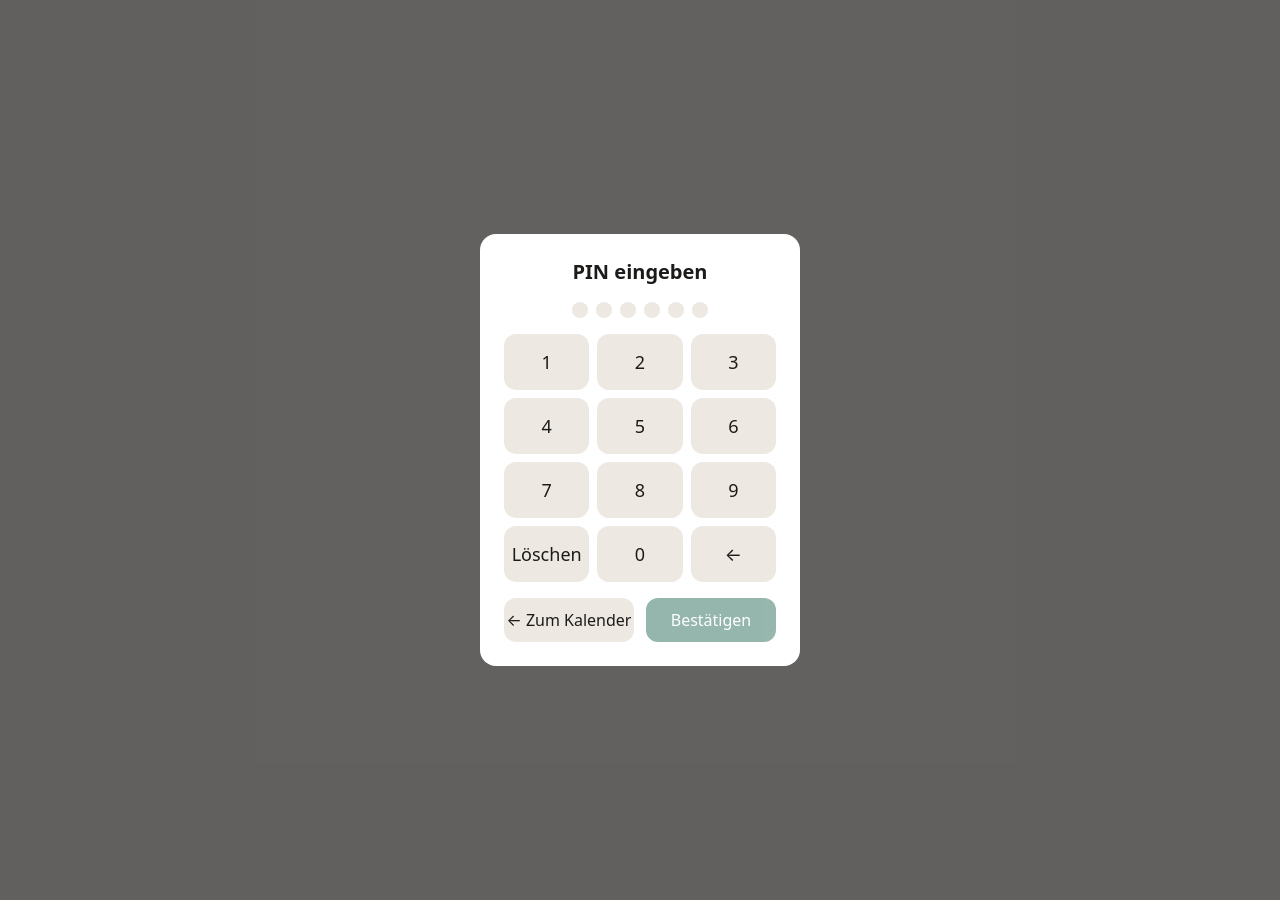
Test: PinGate › shows the server error when verification fails with an Error
What coordinates should you click on to do the following:
click the button "1"
I would click on:
 (547, 362)
Its box is [504, 334, 589, 390].
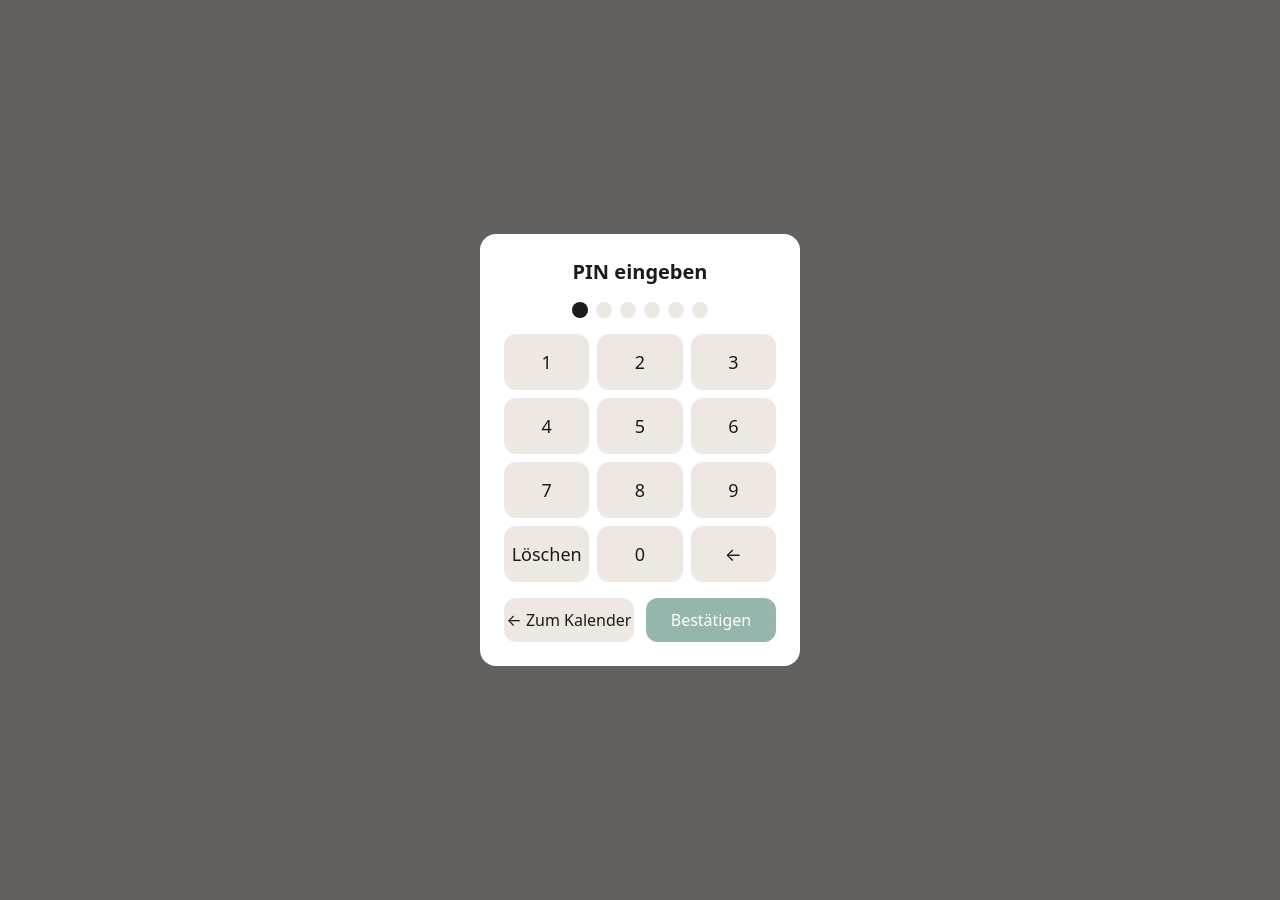
What coordinates should you click on to do the following:
click the button "2"
I would click on:
 (640, 362)
Its box is [597, 334, 683, 390].
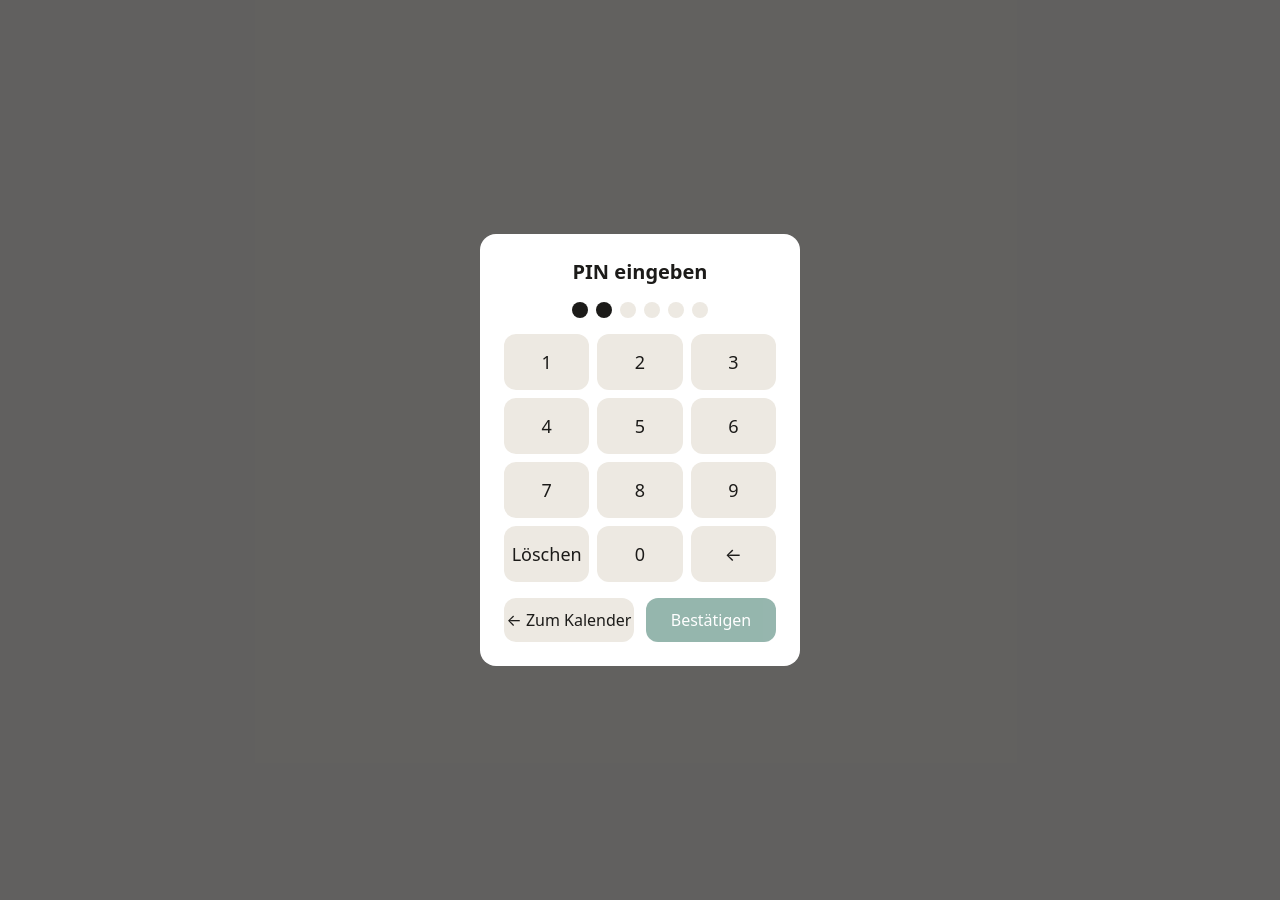
What coordinates should you click on to do the following:
click the button "3"
I would click on:
 (733, 362)
Its box is [691, 334, 776, 390].
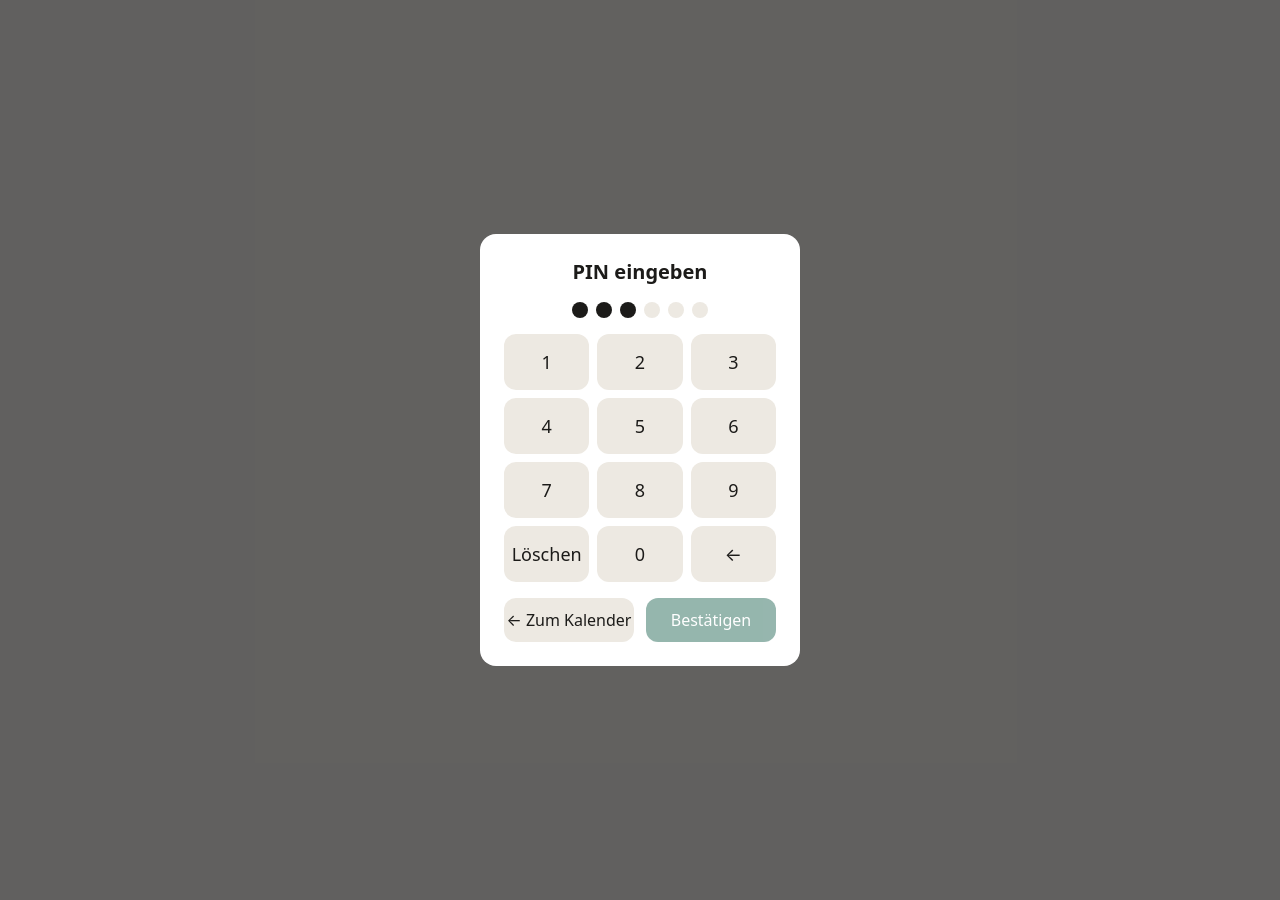
What coordinates should you click on to do the following:
click the button "4"
I would click on:
 (547, 426)
Its box is [504, 398, 589, 454].
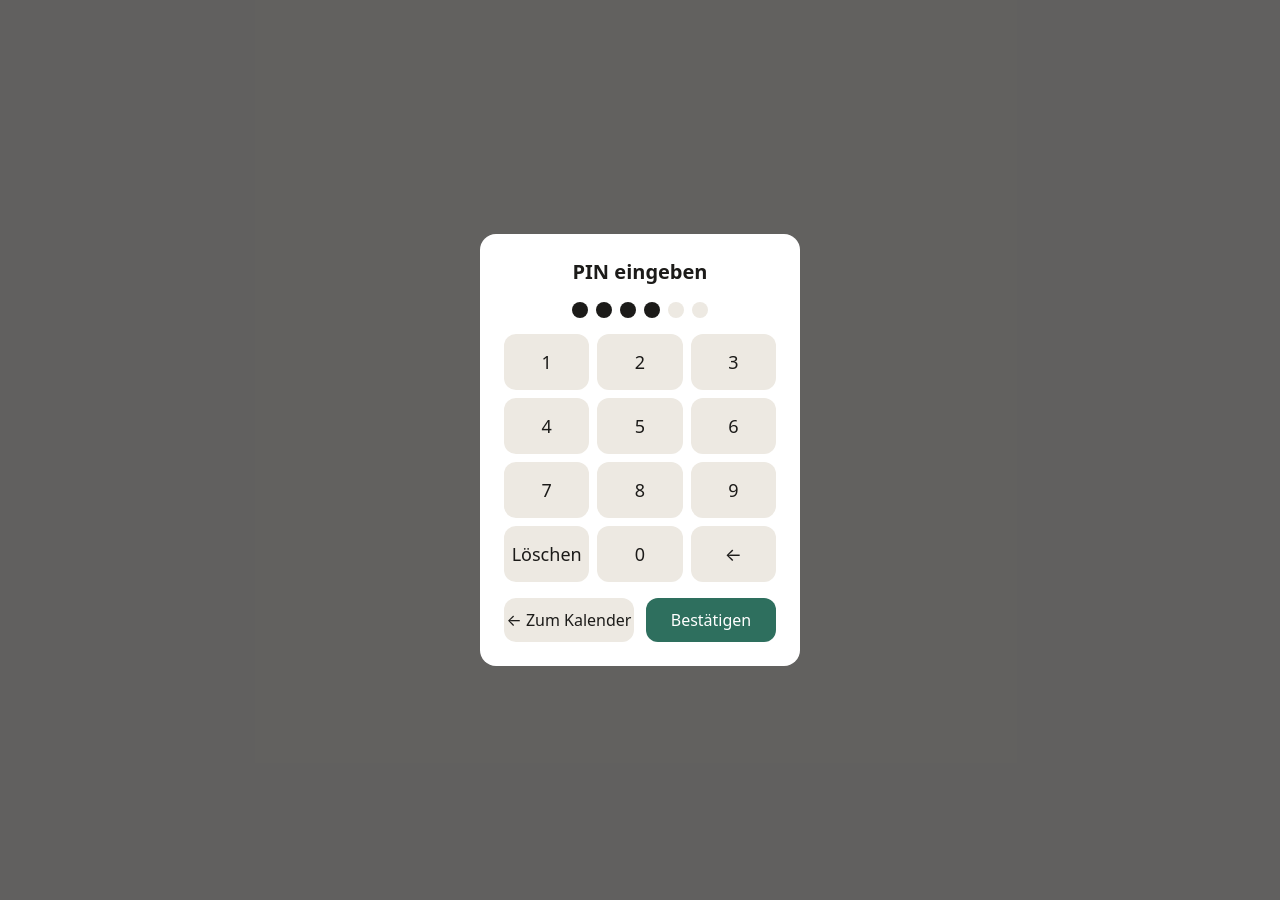
What coordinates should you click on to do the following:
click the button "Bestätigen"
I would click on:
 (711, 620)
Its box is [646, 598, 776, 642].
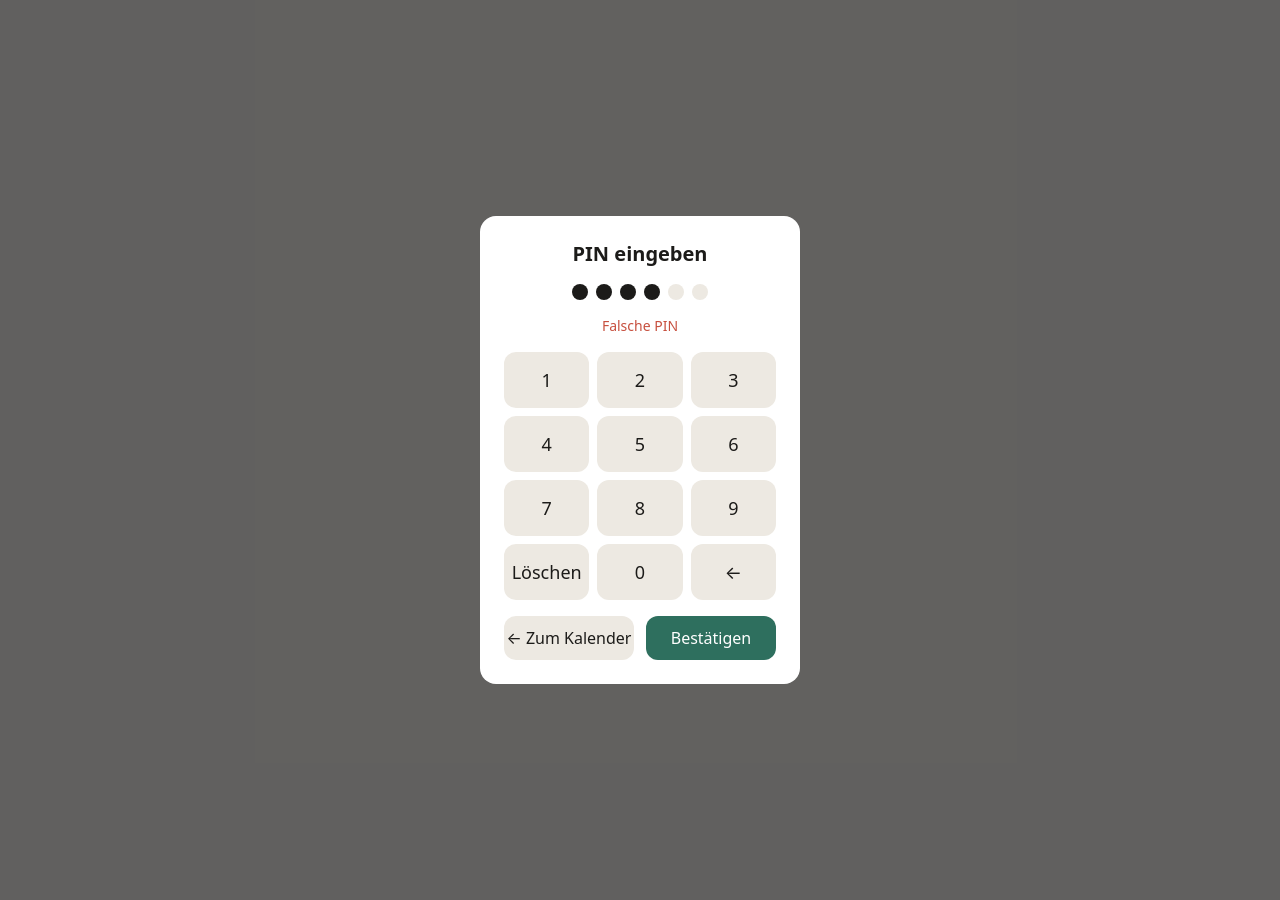
Result: the text "Falsche PIN" is shown at [602, 316, 678, 335]
